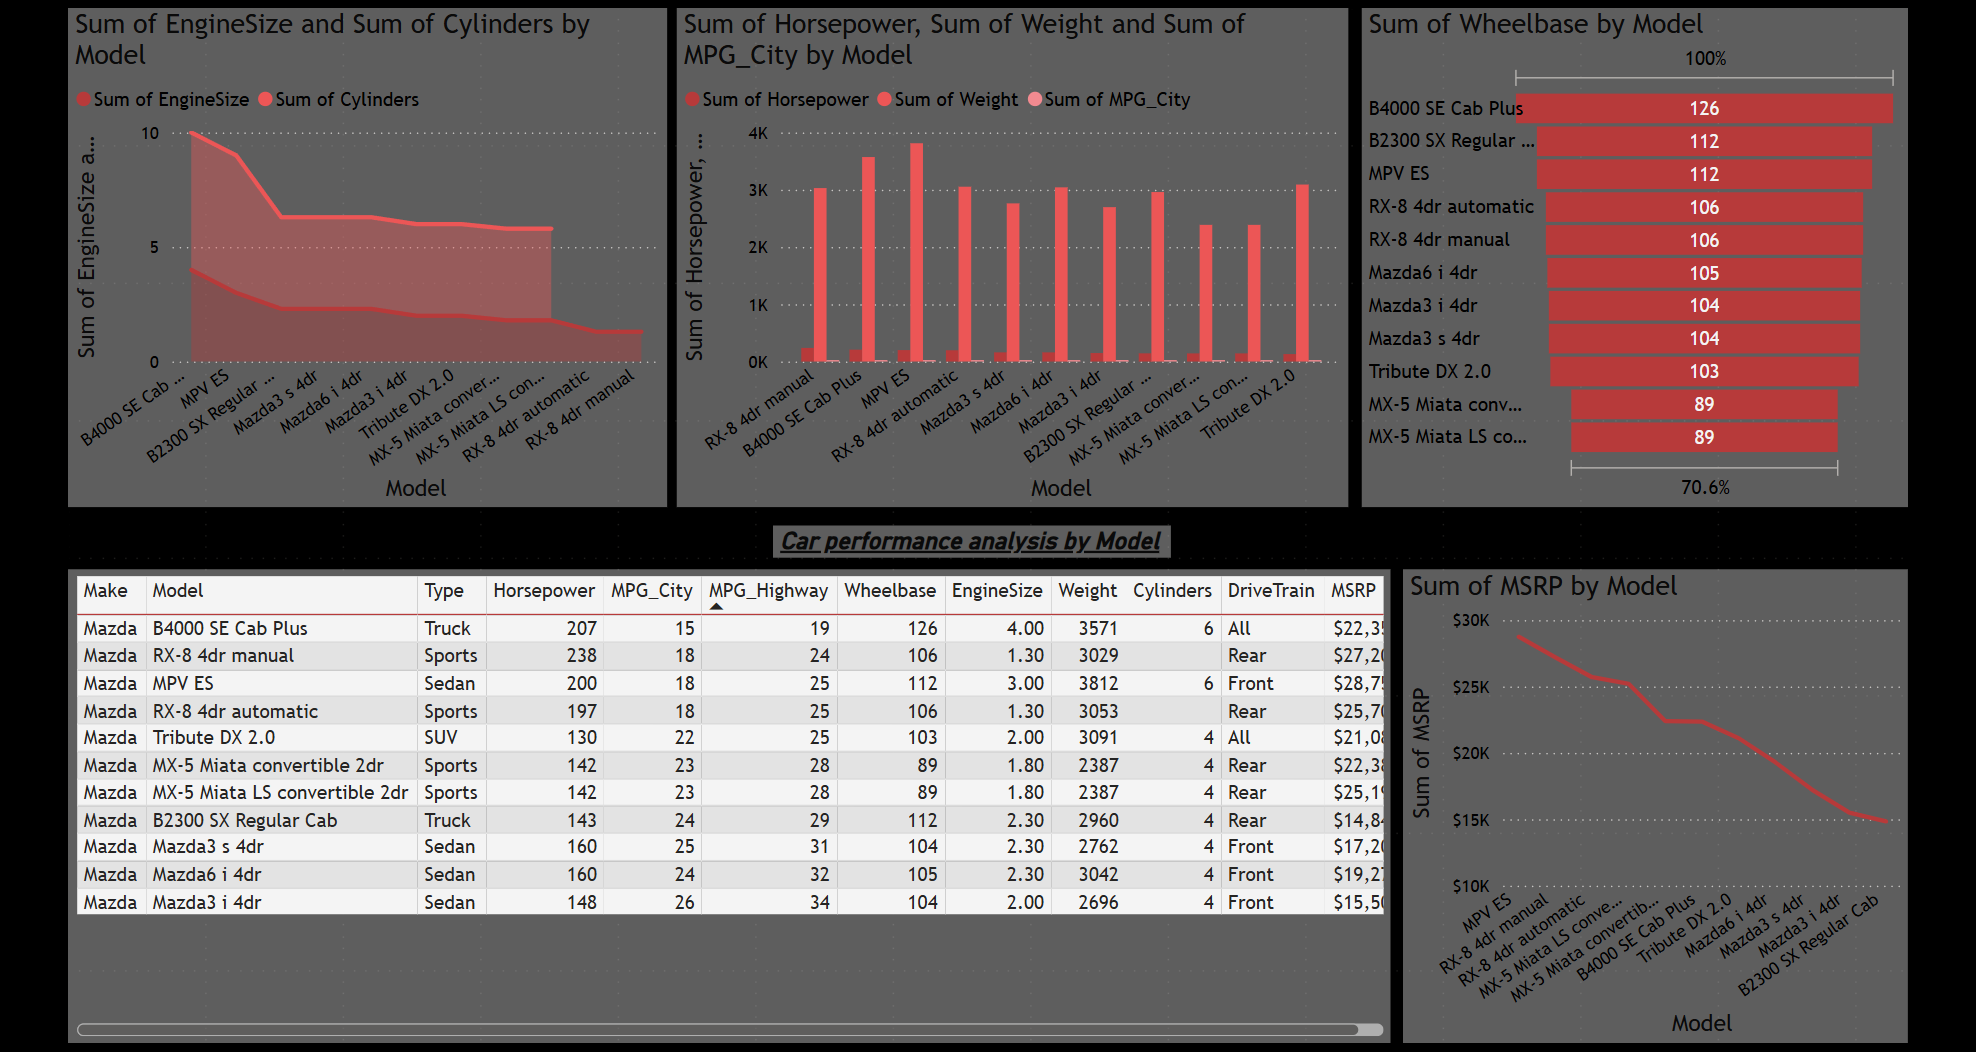

Layout of this report page (visuals, bound fields, positions):
{"tool":"powerbi","page":{"name":"Page 4","canvas":[1280,720],"ordinal":3},"visuals":[{"type":"actionButton","box":[0,0,100,40],"z":0},{"type":"tableEx","fields":{"Values":["CARS.Make","CARS.Model","CARS.Type","CARS.Horsepower","CARS.MPG_City","CARS.MPG_Highway","CARS.Wheelbase","CARS.EngineSize","CARS.Weight","CARS.Cylinders","CARS.DriveTrain","CARS.MSRP"]},"box":[0,390.7,919.9,329.7],"z":1000},{"type":"clusteredColumnChart","fields":{"Category":["CARS.Model"],"Y":["Sum(CARS.Horsepower)","Sum(CARS.Weight)","Sum(CARS.MPG_City)"]},"box":[423.2,0,467.5,347.3],"z":2000},{"type":"funnel","fields":{"Category":["CARS.Model"],"Y":["Sum(CARS.Wheelbase)"]},"box":[899.9,0,379.8,347.3],"z":3000},{"type":"lineChart","fields":{"Category":["CARS.Model"],"Y":["Sum(CARS.MSRP)"]},"box":[928.3,390.7,351.4,329.7],"z":4000},{"type":"stackedAreaChart","fields":{"Category":["CARS.Model"],"Y":["Sum(CARS.EngineSize)","Sum(CARS.Cylinders)"]},"box":[0,0,416.6,347.3],"z":5000},{"type":"textbox","title":"Car performance analysis by Model","box":[490,359.8,277.1,22.5],"z":6000}]}

Visuals, with their boxes in screenshot pixels (x1, y1, x2, y2):
actionButton: (left=62, top=5, right=206, bottom=63)
tableEx - CARS.Make x CARS.Model: (left=62, top=567, right=1384, bottom=1041)
clusteredColumnChart - CARS.Model x Sum(CARS.Horsepower): (left=670, top=5, right=1342, bottom=505)
funnel - CARS.Model x Sum(CARS.Wheelbase): (left=1356, top=5, right=1902, bottom=505)
lineChart - CARS.Model x Sum(CARS.MSRP): (left=1396, top=567, right=1902, bottom=1041)
stackedAreaChart - CARS.Model x Sum(CARS.EngineSize): (left=62, top=5, right=661, bottom=505)
"Car performance analysis by Model" textbox: (left=766, top=522, right=1165, bottom=555)
